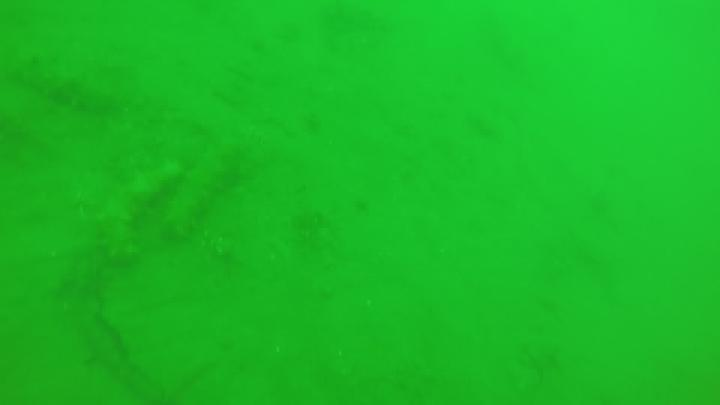holothurian: (94, 155, 183, 266), (165, 141, 250, 240), (8, 49, 109, 108)
